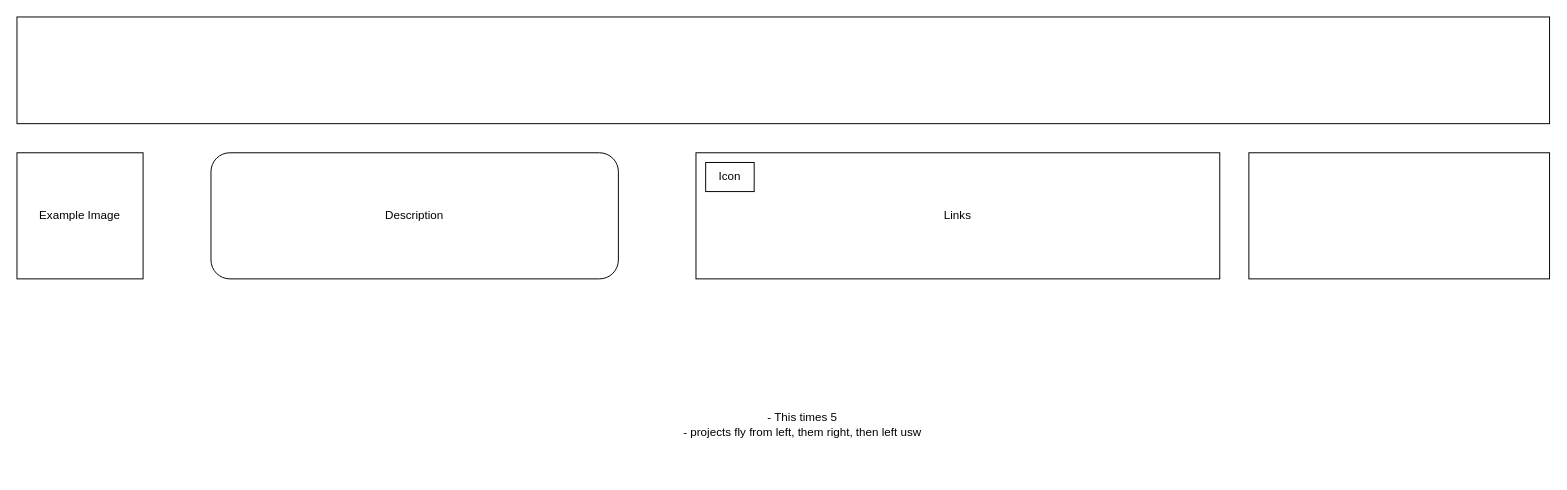
Image size: 1567x490. Some labels were removed from this diagram. Each missing label, with the centre of its shape:
Gathering of used tools (icons): point (1399, 215)
Navigation bar: point (783, 70)
